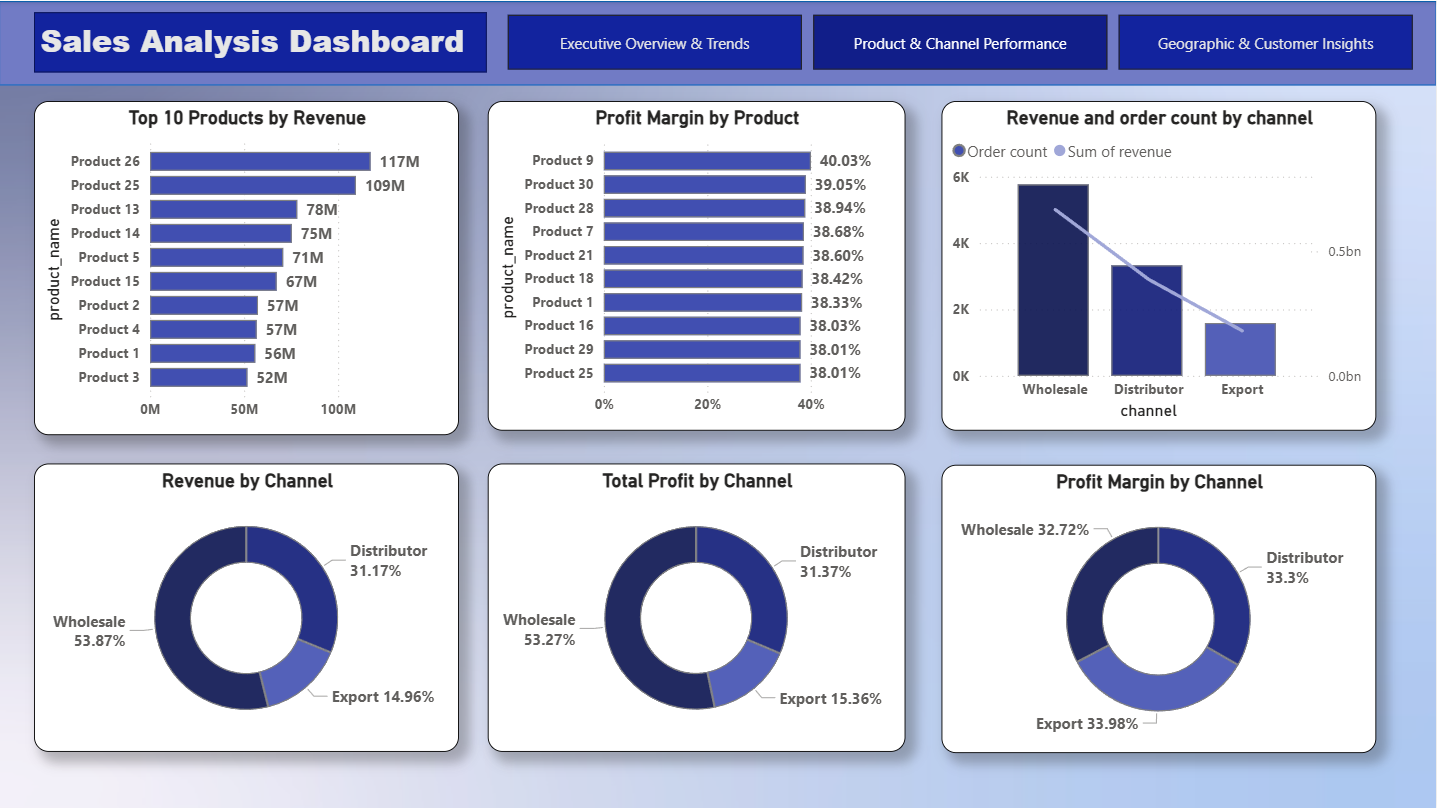

What the dashboard file says about the page in this screenshot:
{"tool":"powerbi","page":{"name":"Product & Channel Performance","canvas":[1280,720],"ordinal":1},"visuals":[{"type":"shape","box":[0,0,1280.2,75.3],"z":0},{"type":"pageNavigator","box":[452.8,12.3,806.9,49.4],"z":1000},{"type":"barChart","title":"Profit Margin by Product","fields":{"Category":["Sales_data(EDA Exported).product_name"],"Y":["Sales_data(EDA Exported).Profit Margin"]},"box":[435,89.2,371.9,293.7],"z":2000},{"type":"donutChart","title":"Revenue by Channel","fields":{"Y":["Sum(Sales_data(EDA Exported).revenue)"],"Series":["Sales_data(EDA Exported).channel"]},"box":[31.6,411.7,378.7,256.6],"z":3000},{"type":"barChart","title":"Top 10 Products by Revenue","fields":{"Category":["Sales_data(EDA Exported).product_name"],"Y":["Sum(Sales_data(EDA Exported).revenue)"]},"box":[31.6,89.2,378.7,297.8],"z":4000},{"type":"donutChart","title":"Total Profit by Channel","fields":{"Series":["Sales_data(EDA Exported).channel"],"Y":["Sum(Sales_data(EDA Exported).profit)"]},"box":[435,411.7,371.9,256.6],"z":5000},{"type":"donutChart","title":"Profit Margin by Channel","fields":{"Series":["Sales_data(EDA Exported).channel"],"Y":["Sales_data(EDA Exported).Profit Margin"]},"box":[839.8,413,387,256.6],"z":6000},{"type":"textbox","box":[31.6,9.6,403.4,53.5],"z":7000},{"type":"lineStackedColumnComboChart","title":"Revenue and  order count by channel","fields":{"Category":["Sales_data(EDA Exported).channel"],"Y2":["Sum(Sales_data(EDA Exported).revenue)"],"Y":["Sales_data(EDA Exported).Order count"]},"box":[839.8,89.2,387,293.7],"z":8000}]}

Visuals, with their boxes in screenshot pixels (x1, y1, x2, y2), scaled from the page's 1280x720 canvas onto the 1437x808 screenshot:
shape: Rect(0, 0, 1436, 85)
pageNavigator: Rect(508, 14, 1414, 69)
"Profit Margin by Product" barChart: Rect(488, 100, 906, 430)
"Revenue by Channel" donutChart: Rect(35, 462, 461, 750)
"Top 10 Products by Revenue" barChart: Rect(35, 100, 461, 434)
"Total Profit by Channel" donutChart: Rect(488, 462, 906, 750)
"Profit Margin by Channel" donutChart: Rect(943, 463, 1377, 751)
textbox: Rect(35, 11, 488, 71)
"Revenue and  order count by channel" lineStackedColumnComboChart: Rect(943, 100, 1377, 430)
